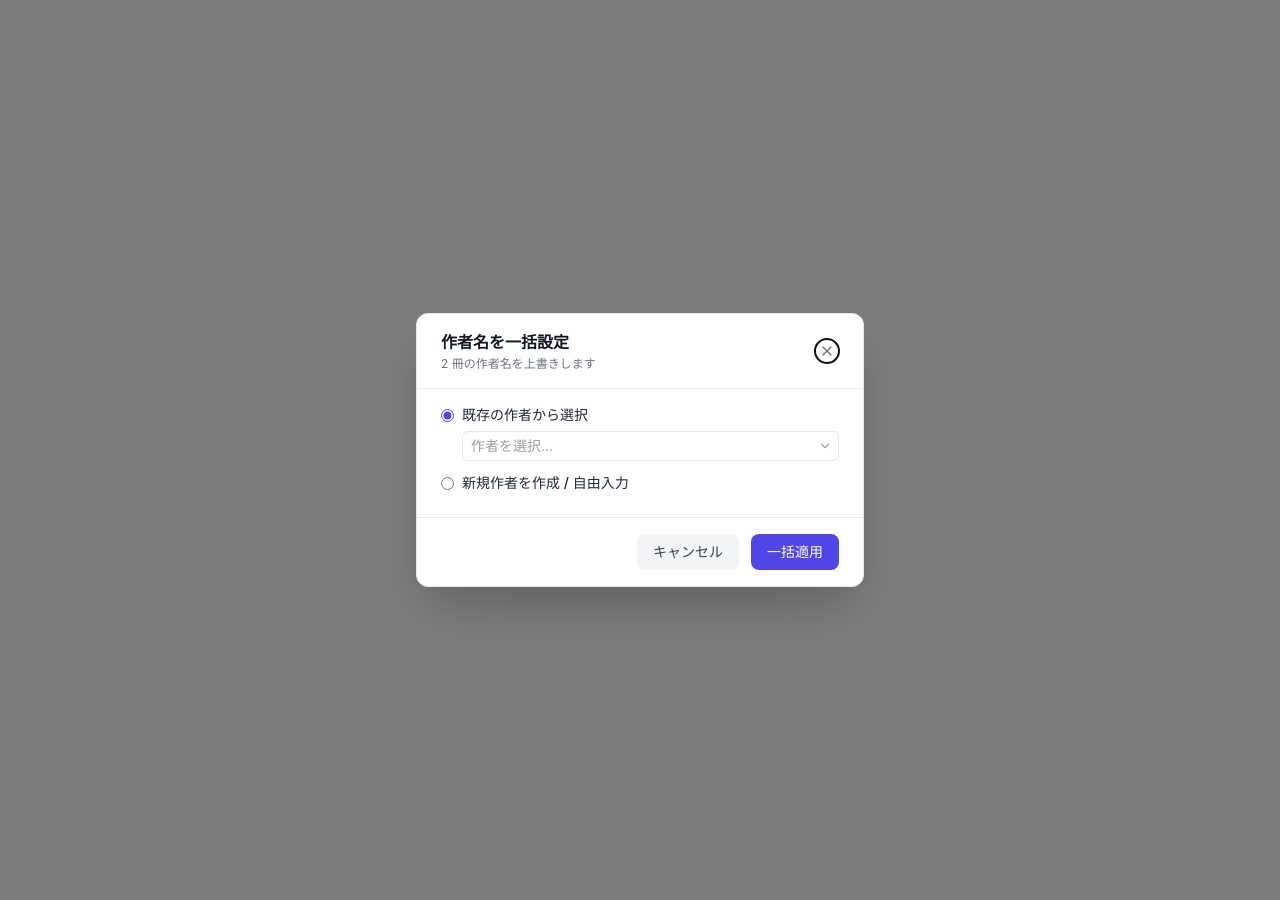
Test: BulkAuthorDialog › 既存作者は未選択で開始し、明示的に選択するまで適用しない
Expected: the dropdown is empty, [463,432,812,460]
Click the button "一括適用" at (795, 552), box [751,534,839,570]
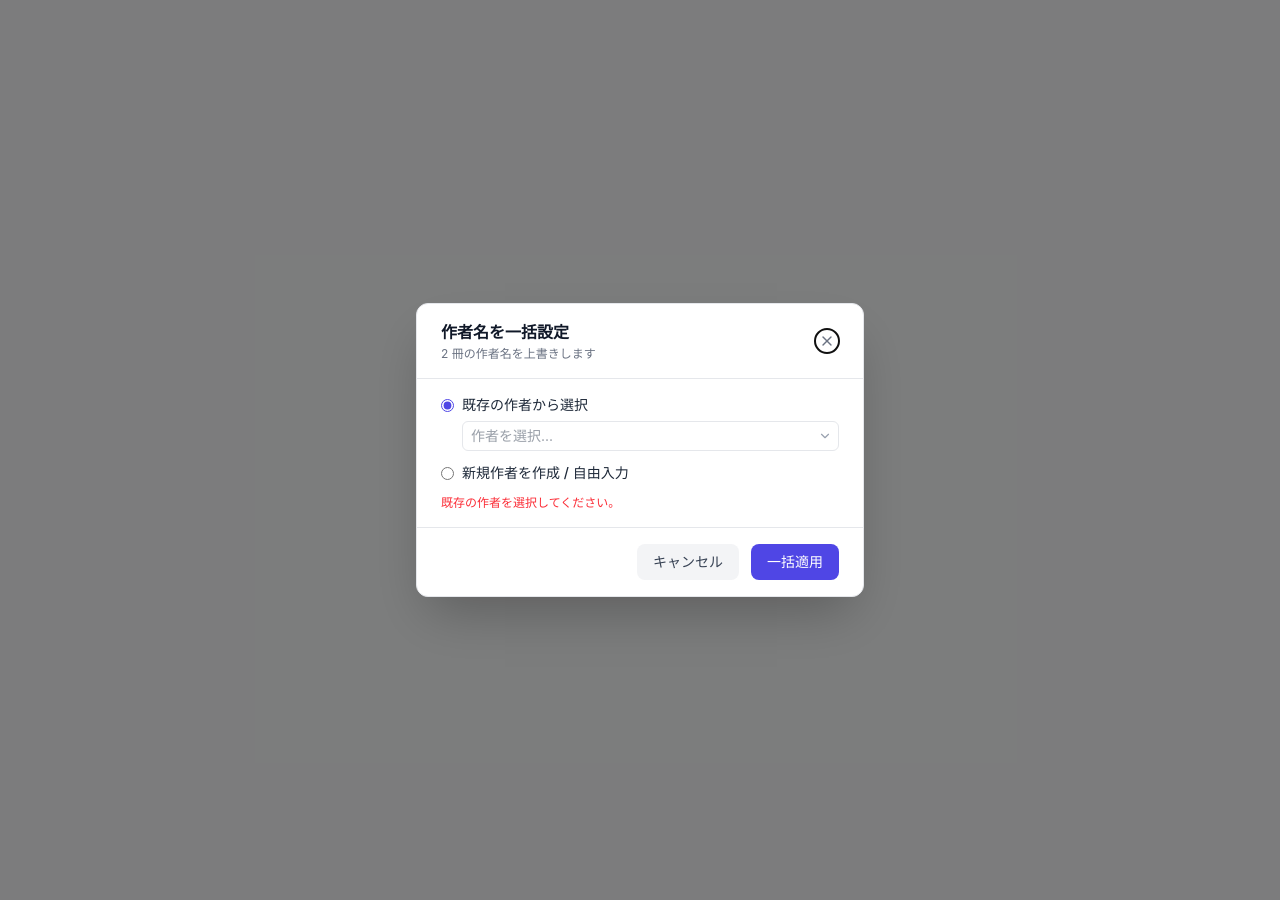
Expected: the text "既存の作者を選択してください。" is shown, [441,495,620,510]
